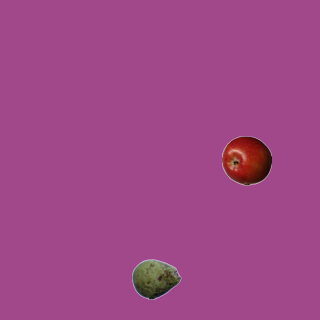Apple Braeburn: (221, 135, 271, 185)
Pear Stone: (131, 254, 181, 304)
